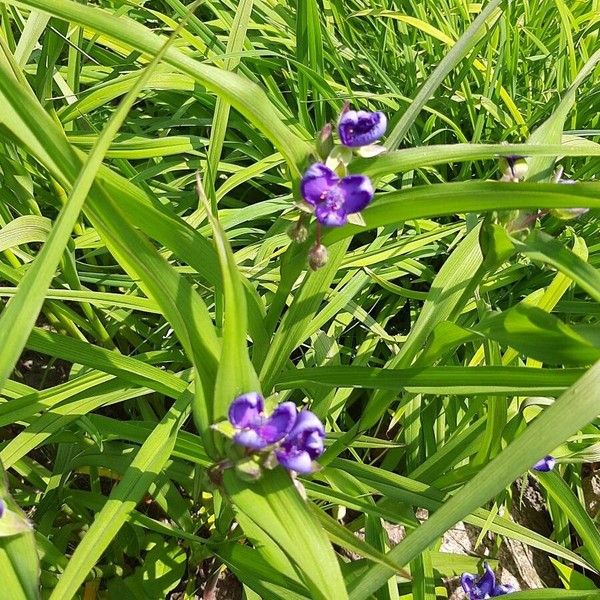obstacle: (40, 90, 331, 548), (128, 12, 588, 277)
